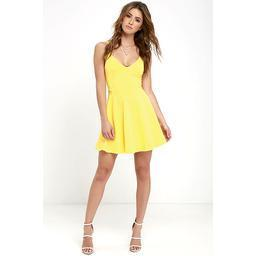dress: (96, 43, 166, 155)
